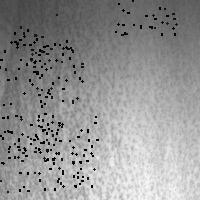pitted_surface: (1, 1, 193, 196), (33, 129, 93, 188), (1, 103, 61, 162), (37, 113, 96, 172), (29, 44, 81, 102), (14, 14, 73, 65), (0, 34, 49, 93), (0, 131, 38, 191), (115, 0, 175, 34)
